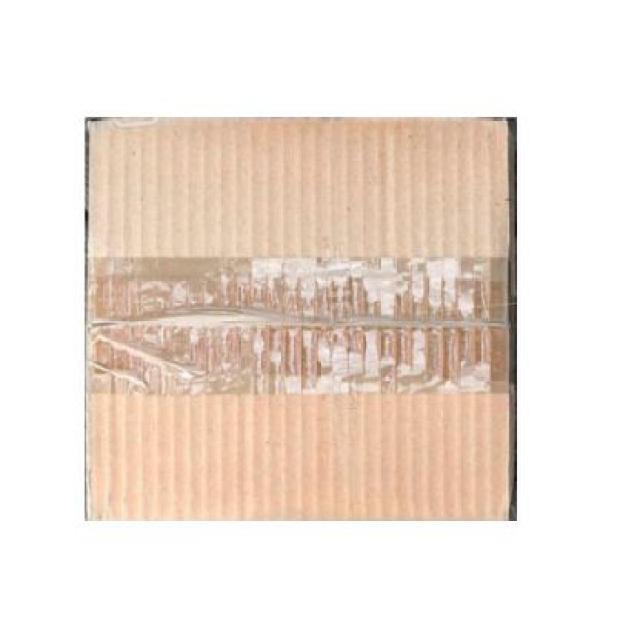box: (88, 121, 508, 520)
